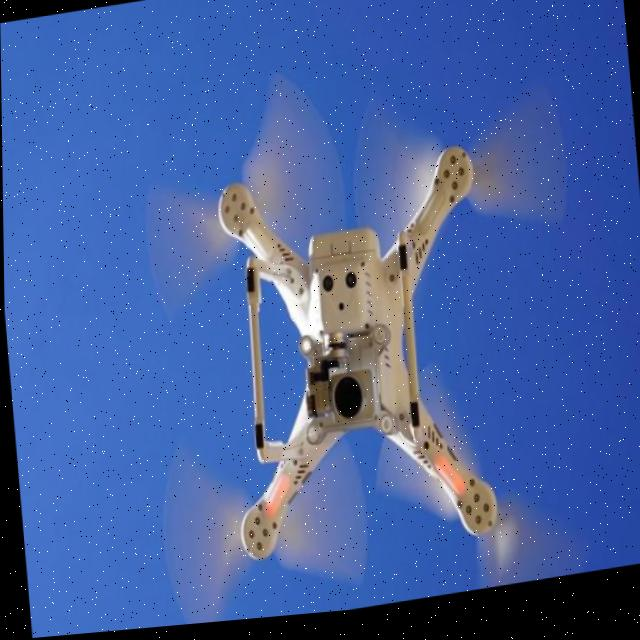drones: (82, 22, 620, 634)
